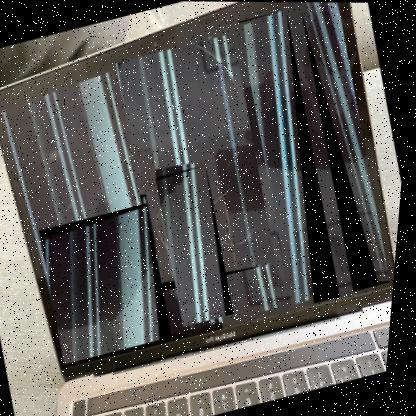crack: (100, 32, 295, 294)
lines: (220, 8, 363, 309), (279, 2, 413, 292), (33, 202, 185, 366), (148, 164, 248, 328)
